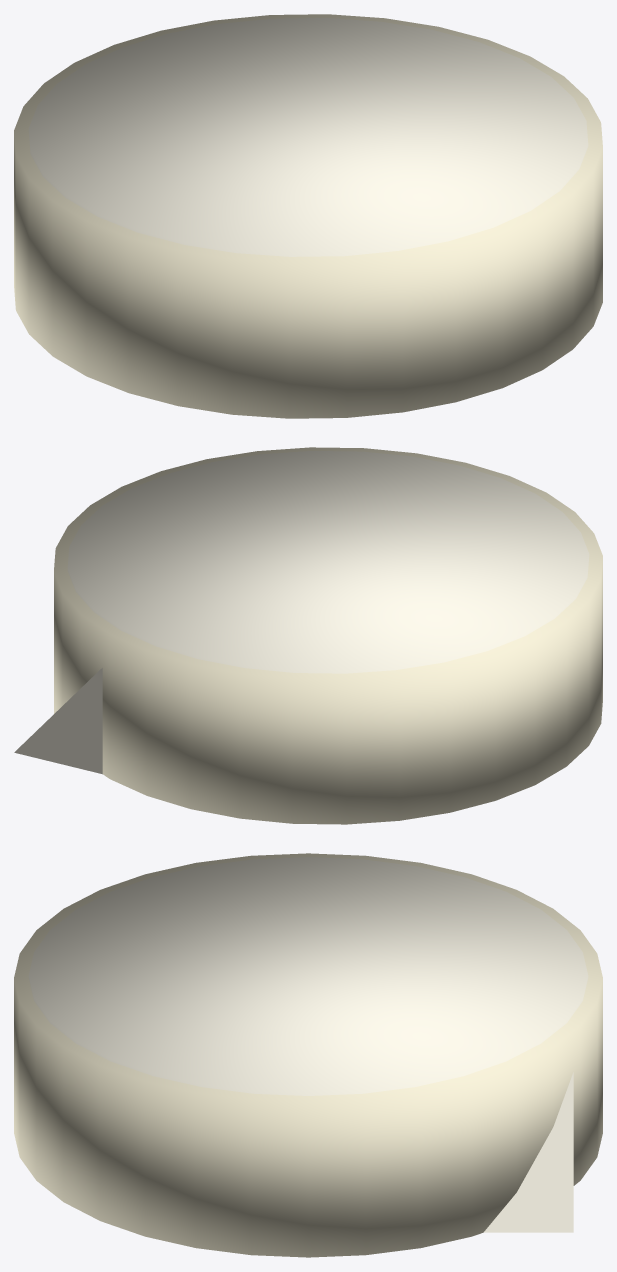
File: world_cheese_brie.glb
The picture shows the model from 3 angles, top to bottom: view 1: azimuth 30°, elevation 25°; view 2: azimuth 150°, elevation 25°; view 3: azimuth 270°, elevation 25°; orthographic projection. The views are drawn at different scales.
Visible parts, largest first — view 1: world_cheese_brie; view 2: world_cheese_brie; view 3: world_cheese_brie.
Boxes of the visible parts, x1=… form: world_cheese_brie: x1=14, y1=14, x2=602, y2=418; world_cheese_brie: x1=14, y1=447, x2=602, y2=824; world_cheese_brie: x1=14, y1=853, x2=602, y2=1257.
Bounding box in the file's own units: 1.1 × 0.3252 × 1.1.
